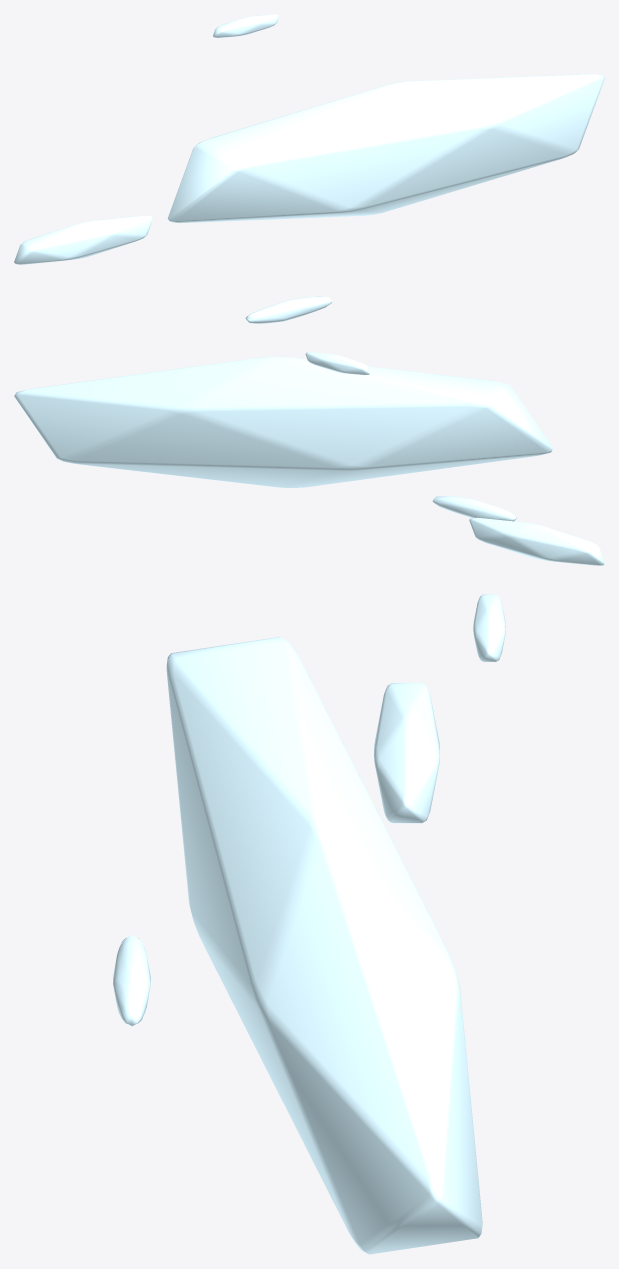
The model's file is Idol_Glass_Shard.glb.
3 views of the same model, one above another, from view 1: azimuth 30°, elevation 25°; view 2: azimuth 150°, elevation 25°; view 3: azimuth 270°, elevation 25° (orthographic). The views are drawn at different scales.
Visible parts, largest first — view 1: Idol_Glass_Shard; view 2: Idol_Glass_Shard; view 3: Idol_Glass_Shard.
Boxes of the visible parts, <box> form: Idol_Glass_Shard: <box>14,14,604,323</box>; Idol_Glass_Shard: <box>14,352,604,565</box>; Idol_Glass_Shard: <box>113,594,505,1254</box>.
Size of the model in its own units: 0.9787 by 0.3473 by 0.2857.
